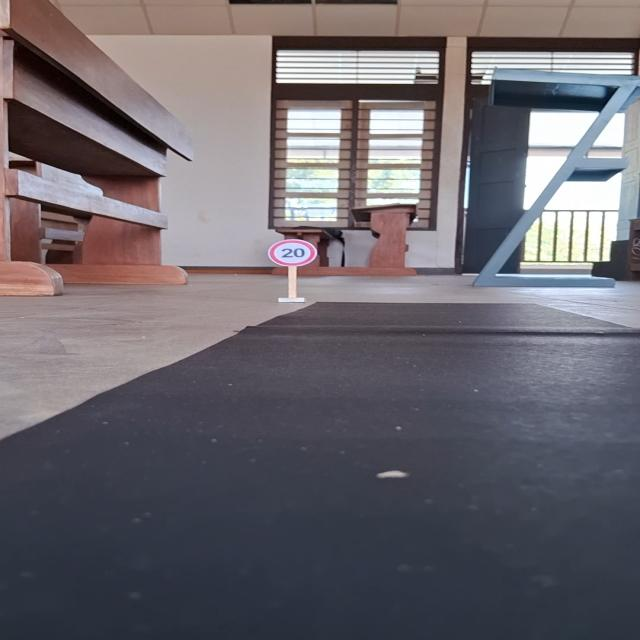Speed20: (268, 238, 318, 267)
